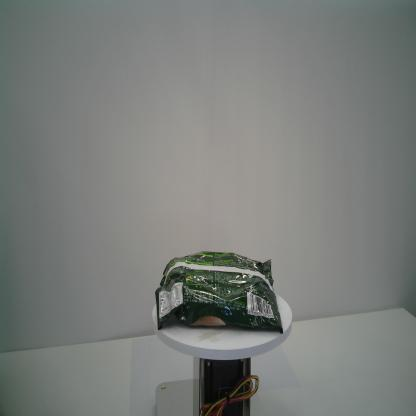Instant Noodles: (154, 248, 284, 339)
